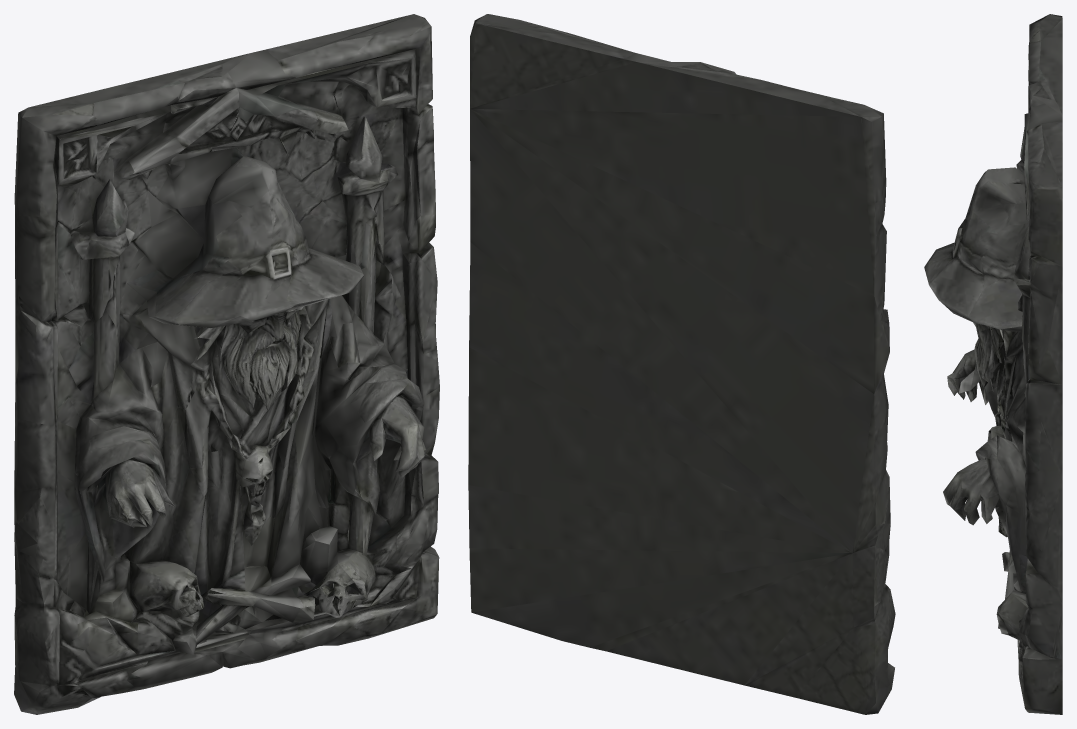
Rendered from obj_deco_evil_wizard.glb.
The picture shows the model from 3 angles, left to right: view 1: azimuth 30°, elevation 25°; view 2: azimuth 150°, elevation 25°; view 3: azimuth 270°, elevation 25°; orthographic projection. The views are drawn at different scales.
Parts seen in each view (by area): view 1: Mesh_0; view 2: Mesh_0; view 3: Mesh_0.
Boxes of the visible parts, <box> form: Mesh_0: <box>14,14,439,714</box>; Mesh_0: <box>468,14,895,714</box>; Mesh_0: <box>924,14,1062,714</box>.
Bounding box in the file's own units: 1.38 × 1.9 × 0.4484.
Materials: 1 (1 with a texture image).
